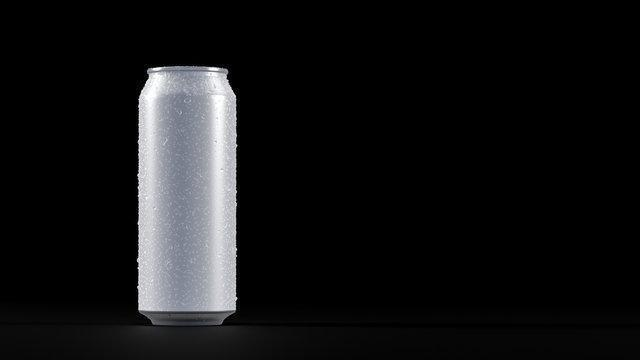tin can: (136, 63, 239, 326)
